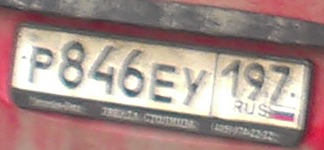character: (58, 39, 89, 93), (87, 42, 116, 96), (118, 45, 146, 100), (146, 57, 176, 106), (25, 44, 57, 88), (181, 65, 209, 108), (267, 59, 292, 105), (218, 57, 243, 101), (242, 57, 266, 101)
